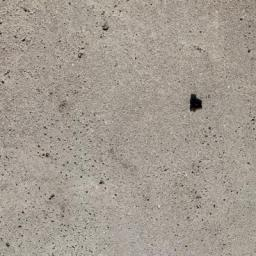FOD: (187, 90, 205, 116)
